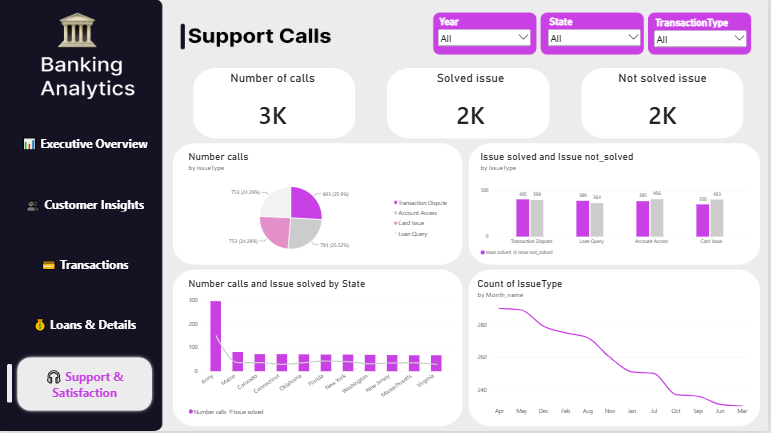

Layout of this report page (visuals, bound fields, positions):
{"tool":"powerbi","page":{"name":"Support_satisfaction_page","canvas":[1920,1080],"ordinal":5},"visuals":[{"type":"cardVisual","title":"Number of calls","fields":{"Data":["customer calls measure.Number calls"]},"box":[514,180,333.3,163.3],"z":0},{"type":"cardVisual","title":"Solved issue","fields":{"Data":["customer calls measure.Issue solved"]},"box":[1005,180,343.3,163.3],"z":1},{"type":"cardVisual","title":"Not solved issue","fields":{"Data":["customer calls measure.Issue not_solved"]},"box":[1485,180,343.3,163.3],"z":2},{"type":"pieChart","fields":{"Category":["SupportCalls.IssueType"],"Y":["customer calls measure.Number calls"]},"box":[454,364,688,298],"z":3},{"type":"clusteredColumnChart","fields":{"Category":["SupportCalls.IssueType"],"Y":["customer calls measure.Issue solved","customer calls measure.Issue not_solved"]},"box":[1186,364,707,298],"z":4},{"type":"lineChart","fields":{"Category":["Calender.Month_name"],"Y":["CountNonNull(SupportCalls.IssueType)"]},"box":[1177,683,716,379],"z":5},{"type":"lineStackedColumnComboChart","fields":{"Category":["customers.State"],"Y":["customer calls measure.Number calls"],"Y2":["customer calls measure.Issue solved"]},"box":[454,683,688,379],"z":6},{"type":"shape","box":[34.3,285.7,352.9,150],"z":7},{"type":"shape","box":[34.3,437.1,352.9,150],"z":8},{"type":"shape","box":[34.3,587.1,352.9,150],"z":9},{"type":"shape","box":[34.3,737.1,352.9,150],"z":10},{"type":"shape","box":[34.3,887.1,352.9,150],"z":11},{"type":"shape","box":[16.4,913.6,12.9,97.1],"z":12},{"type":"slicer","fields":{"Values":["Accounts.CreatedDate.Variation.Date Hierarchy.Year"]},"box":[1090,40,241.2,90],"z":13},{"type":"slicer","fields":{"Values":["customers.State"]},"box":[1364,40,241.2,90],"z":14},{"type":"slicer","fields":{"Values":["Transactions.TransactionType"]},"box":[1629.3,41.8,241.2,90],"z":15}]}

Visuals, with their boxes on the page's 1920x1080 design canvas (x1, y1, x2, y2). These are canvas units, not pixel positions in the 771x433 screenshot, which may show the page scaled, cropped or inside an application window:
"Number of calls" cardVisual: left=514, top=180, right=847, bottom=343
"Solved issue" cardVisual: left=1005, top=180, right=1348, bottom=343
"Not solved issue" cardVisual: left=1485, top=180, right=1828, bottom=343
pieChart - SupportCalls.IssueType x customer calls measure.Number calls: left=454, top=364, right=1142, bottom=662
clusteredColumnChart - SupportCalls.IssueType x customer calls measure.Issue solved: left=1186, top=364, right=1893, bottom=662
lineChart - Calender.Month_name x CountNonNull(SupportCalls.IssueType): left=1177, top=683, right=1893, bottom=1062
lineStackedColumnComboChart - customers.State x customer calls measure.Number calls: left=454, top=683, right=1142, bottom=1062
shape: left=34, top=286, right=387, bottom=436
shape: left=34, top=437, right=387, bottom=587
shape: left=34, top=587, right=387, bottom=737
shape: left=34, top=737, right=387, bottom=887
shape: left=34, top=887, right=387, bottom=1037
shape: left=16, top=914, right=29, bottom=1011
slicer - Accounts.CreatedDate.Variation.Date Hierarchy.Year: left=1090, top=40, right=1331, bottom=130
slicer - customers.State: left=1364, top=40, right=1605, bottom=130
slicer - Transactions.TransactionType: left=1629, top=42, right=1870, bottom=132
